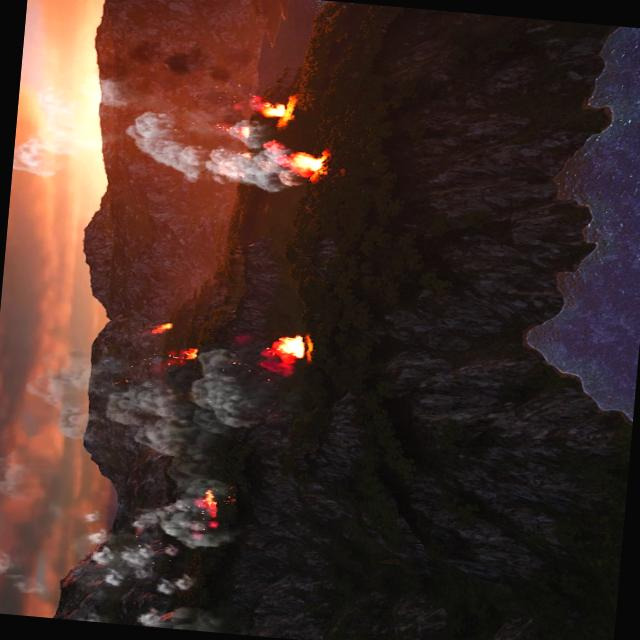fire: (253, 330, 308, 376), (250, 90, 302, 123), (283, 150, 327, 179), (194, 488, 224, 526), (172, 341, 200, 361), (152, 317, 173, 333)
smoke: (0, 324, 271, 635), (12, 69, 312, 195)
